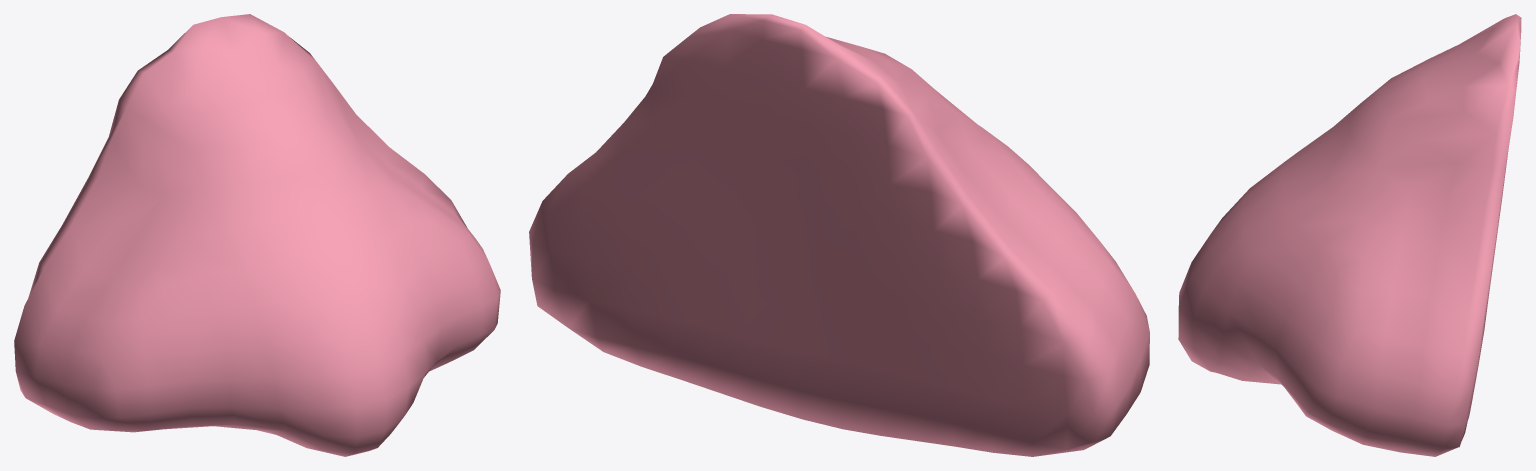
Rendered from Nose_Human.fbx.
3 renders of one model, left to right at view 1: azimuth 30°, elevation 25°; view 2: azimuth 150°, elevation 25°; view 3: azimuth 270°, elevation 25°, orthographic. The views are drawn at different scales.
Visible parts, largest first — view 1: ObjNose; view 2: ObjNose; view 3: ObjNose.
Part boxes in pixels (box(x1,y1,x2,y2)): ObjNose: box(14, 14, 500, 456); ObjNose: box(529, 14, 1149, 456); ObjNose: box(1178, 14, 1521, 456).
Bounding box in the file's own units: 23.09 × 16.56 × 14.3.
